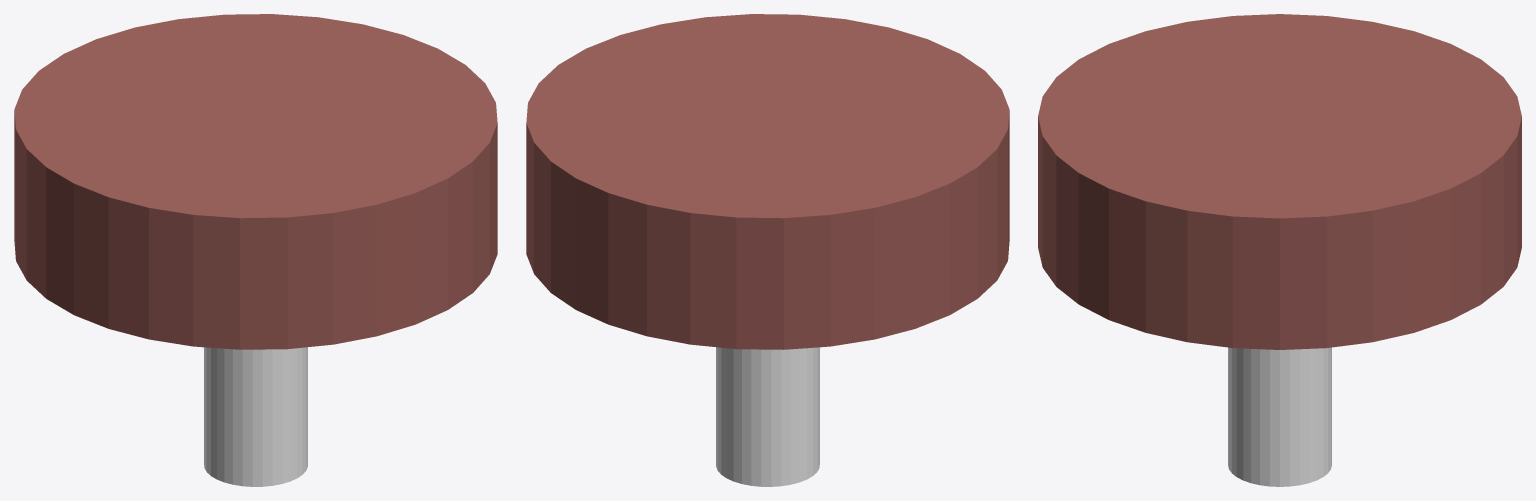
File: chair.fbx
3 renders of one model, left to right at view 1: azimuth 30°, elevation 25°; view 2: azimuth 150°, elevation 25°; view 3: azimuth 270°, elevation 25°, orthographic.
Visible parts, largest first — view 1: chair, chair_pole; view 2: chair, chair_pole; view 3: chair, chair_pole.
Part boxes in pixels (x1=…): chair: x1=14, y1=14, x2=497, y2=349; chair_pole: x1=204, y1=347, x2=307, y2=486; chair: x1=526, y1=14, x2=1009, y2=349; chair_pole: x1=716, y1=347, x2=819, y2=486; chair: x1=1038, y1=14, x2=1521, y2=349; chair_pole: x1=1228, y1=347, x2=1331, y2=486.
Size of the model in its own units: 46.5 by 36.98 by 46.5.
Materials: 2 (2 with a texture image).
